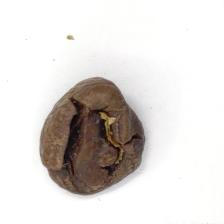NG: (60, 94, 145, 146), (54, 147, 142, 193)
